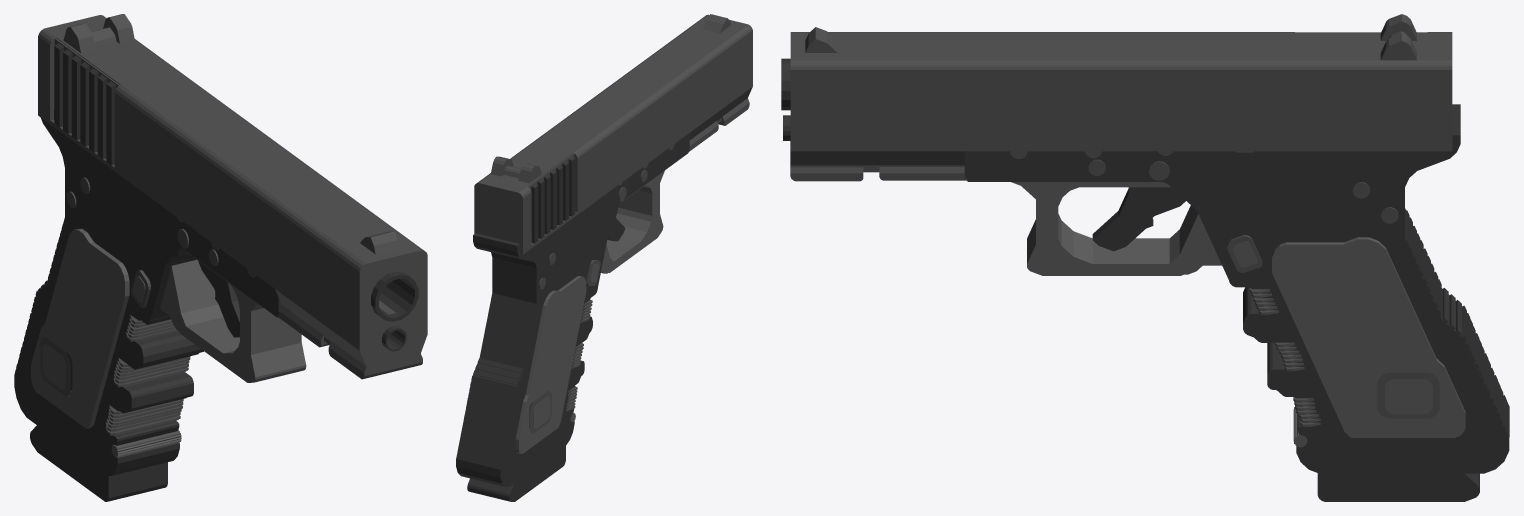
File: pistola.gltf
3 renders of one model, left to right at view 1: azimuth 30°, elevation 25°; view 2: azimuth 150°, elevation 25°; view 3: azimuth 270°, elevation 25°, orthographic. The views are drawn at different scales.
Visible parts, largest first — view 1: 7bc2b02c-2f89-4b3c-48b9-bf3672a70f95, d99ce534-1e5e-4a94-0e2e-874b1761ba73, 0b05a25e-82ee-2770-8272-7f77fe28f8ad, 5b23da09-19a7-8460-45ed-b54778ba8ce2, 488bca00-ced4-5003-641d-1631f176e8c2, 8d22e63c-f891-f739-03b2-967e25af49e8, 6f5b7e5e-d809-9d23-5a3f-a91f2acd2a15, f004ddb4-6cad-3da4-16ee-88d2d56d08ec, 92a9bdeb-b4e1-c55d-3ee5-32e38197bda4, 0e3b3090-5252-6769-10ae-91933a6b7bdd, f60f6ec9-15d6-858b-175e-ad7832e40cfe, 8d2d81fd-ea4e-e339-78a2-3e017fc44500 (+42 smaller); view 2: 7bc2b02c-2f89-4b3c-48b9-bf3672a70f95, d99ce534-1e5e-4a94-0e2e-874b1761ba73, 9fa286f0-ddd4-0386-3ae2-4f855f0c3a43, 0b05a25e-82ee-2770-8272-7f77fe28f8ad, 5b23da09-19a7-8460-45ed-b54778ba8ce2, ebb70359-796a-a7ba-f7fd-7e150d150952, 488bca00-ced4-5003-641d-1631f176e8c2, 2ae1f685-4820-cde1-023f-247311156f74, 8d22e63c-f891-f739-03b2-967e25af49e8, a511d5c4-b121-09c9-6b26-e3a7545c4c1f, f60f6ec9-15d6-858b-175e-ad7832e40cfe, 6f5b7e5e-d809-9d23-5a3f-a91f2acd2a15 (+32 smaller); view 3: 519e7ad8-59c1-ca43-7316-aad87b7051d8, d99ce534-1e5e-4a94-0e2e-874b1761ba73, 62c0e2ac-1bc3-b32d-aca7-96caa4181506, 33ecdf9e-5ea5-ef01-fa17-d5a19336cdda, 8b04f739-3e07-aa87-047f-ee512ab2014a, 16bbe99b-0eda-0e50-a76e-db356dfe5d0e, 726a7065-19ad-ff31-f477-14b7aeee32e9, a843461d-6139-4df8-ed31-199274064749, dce344cf-4fed-36d0-13c1-4592f820cde1, a4dd74ba-d83e-c4a4-a060-b06373b1214a, ea06a50f-f29c-e1dc-3766-d8078eef7994, e9601825-96a4-d28b-030a-30f12e7d9a74 (+29 smaller).
Part boxes in pixels (x1,y1,x2,y2): 7bc2b02c-2f89-4b3c-48b9-bf3672a70f95: [114, 93, 374, 350]; d99ce534-1e5e-4a94-0e2e-874b1761ba73: [52, 18, 421, 266]; 0b05a25e-82ee-2770-8272-7f77fe28f8ad: [27, 155, 153, 460]; 5b23da09-19a7-8460-45ed-b54778ba8ce2: [72, 272, 129, 425]; 488bca00-ced4-5003-641d-1631f176e8c2: [26, 362, 106, 475]; 8d22e63c-f891-f739-03b2-967e25af49e8: [114, 105, 376, 293]; 6f5b7e5e-d809-9d23-5a3f-a91f2acd2a15: [58, 232, 100, 350]; f004ddb4-6cad-3da4-16ee-88d2d56d08ec: [38, 426, 142, 497]; 92a9bdeb-b4e1-c55d-3ee5-32e38197bda4: [170, 260, 218, 325]; 0e3b3090-5252-6769-10ae-91933a6b7bdd: [245, 305, 301, 356]; f60f6ec9-15d6-858b-175e-ad7832e40cfe: [45, 234, 82, 344]; 8d2d81fd-ea4e-e339-78a2-3e017fc44500: [155, 202, 270, 306]; 7bc2b02c-2f89-4b3c-48b9-bf3672a70f95: [575, 30, 752, 212]; d99ce534-1e5e-4a94-0e2e-874b1761ba73: [482, 14, 746, 189]; 9fa286f0-ddd4-0386-3ae2-4f855f0c3a43: [475, 187, 531, 254]; 0b05a25e-82ee-2770-8272-7f77fe28f8ad: [499, 240, 596, 441]; 5b23da09-19a7-8460-45ed-b54778ba8ce2: [549, 293, 585, 421]; ebb70359-796a-a7ba-f7fd-7e150d150952: [475, 386, 532, 469]; 488bca00-ced4-5003-641d-1631f176e8c2: [509, 405, 566, 486]; 2ae1f685-4820-cde1-023f-247311156f74: [511, 248, 562, 304]; 8d22e63c-f891-f739-03b2-967e25af49e8: [575, 39, 752, 173]; a511d5c4-b121-09c9-6b26-e3a7545c4c1f: [565, 206, 604, 263]; f60f6ec9-15d6-858b-175e-ad7832e40cfe: [526, 305, 555, 396]; 6f5b7e5e-d809-9d23-5a3f-a91f2acd2a15: [538, 290, 563, 383]; 519e7ad8-59c1-ca43-7316-aad87b7051d8: [790, 70, 1429, 151]; d99ce534-1e5e-4a94-0e2e-874b1761ba73: [790, 33, 1443, 60]; 62c0e2ac-1bc3-b32d-aca7-96caa4181506: [1233, 161, 1482, 463]; 33ecdf9e-5ea5-ef01-fa17-d5a19336cdda: [1272, 272, 1379, 431]; 8b04f739-3e07-aa87-047f-ee512ab2014a: [1211, 151, 1333, 252]; 16bbe99b-0eda-0e50-a76e-db356dfe5d0e: [964, 151, 1189, 175]; 726a7065-19ad-ff31-f477-14b7aeee32e9: [1323, 237, 1400, 365]; a843461d-6139-4df8-ed31-199274064749: [1358, 248, 1436, 372]; dce344cf-4fed-36d0-13c1-4592f820cde1: [1319, 416, 1483, 473]; a4dd74ba-d83e-c4a4-a060-b06373b1214a: [1277, 151, 1368, 190]; ea06a50f-f29c-e1dc-3766-d8078eef7994: [1317, 473, 1462, 495]; e9601825-96a4-d28b-030a-30f12e7d9a74: [1425, 338, 1509, 465].
Bounding box in the file's own units: 2.68 × 14.25 × 20.46.
Materials: 1 (1 with a texture image).
